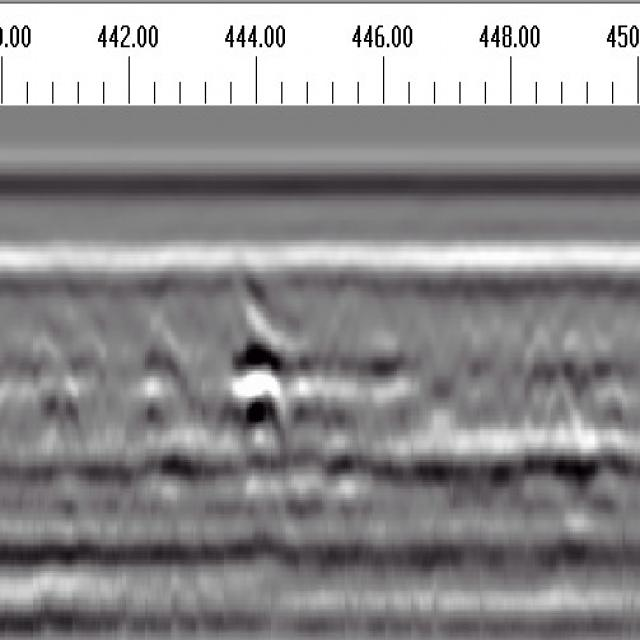loose: (226, 327, 406, 479)
